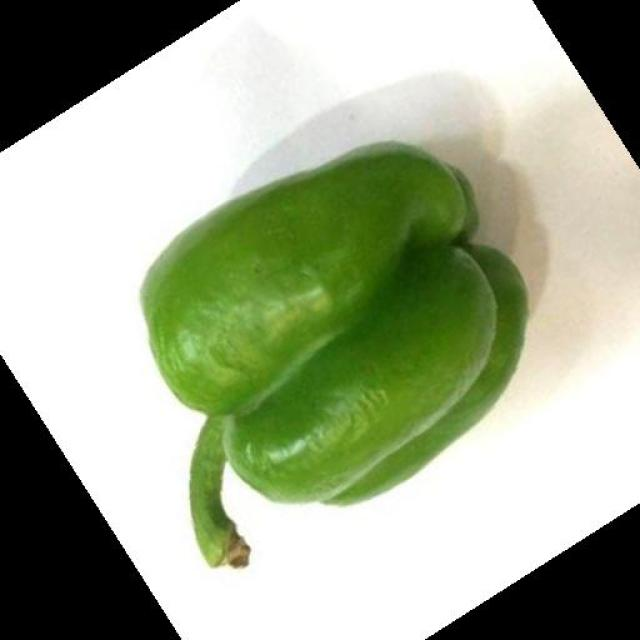Fresh_Capsicum: (116, 149, 507, 513)
